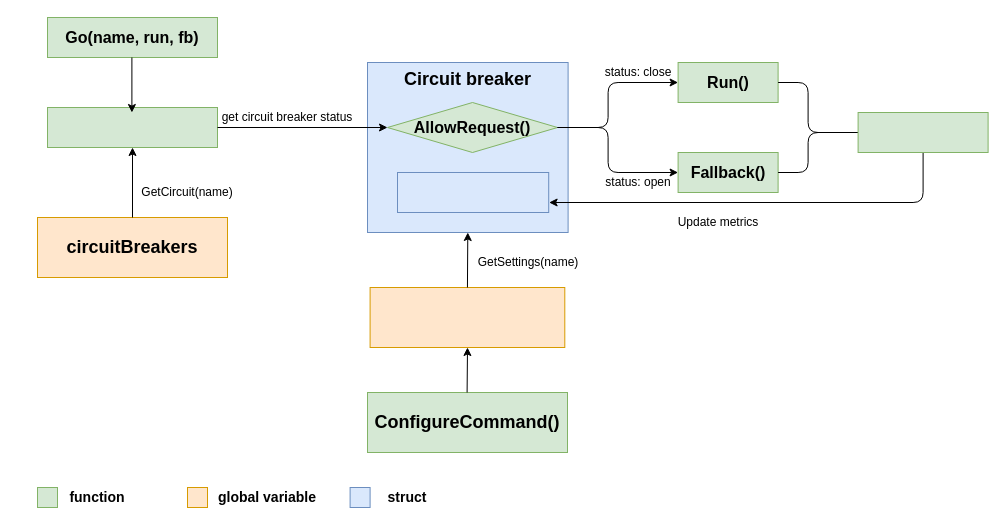
This 1006x525 diagram has some shape labels left out. The shapes that lost their labels are listed below. From the top down, each one's centre as x and y in pixels, then its label:
pixel 132 127: GoC()
pixel 922 132: ReportEvent()
pixel 472 192: MetricCollector
pixel 467 317: circuitSettings
